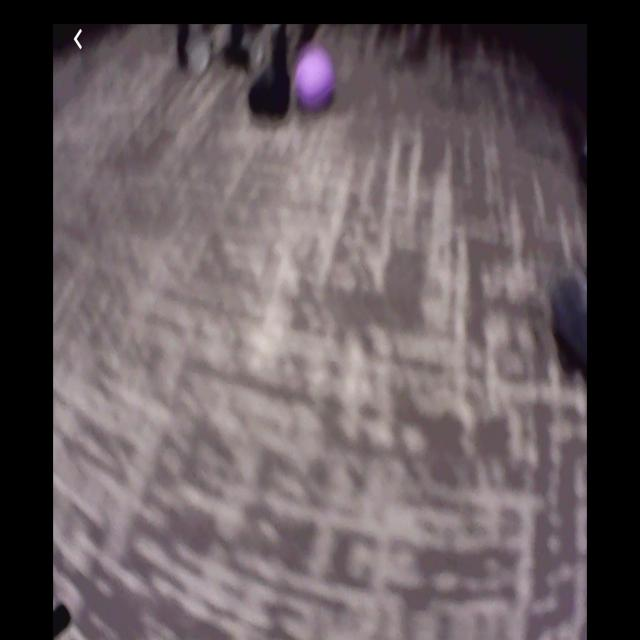ball: (295, 50, 334, 109)
